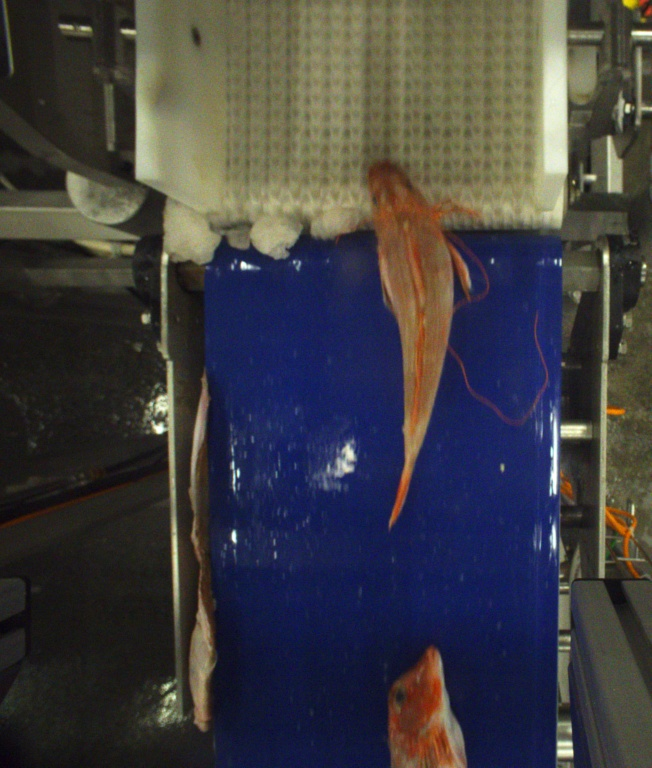GUU: (370, 161, 470, 527)
